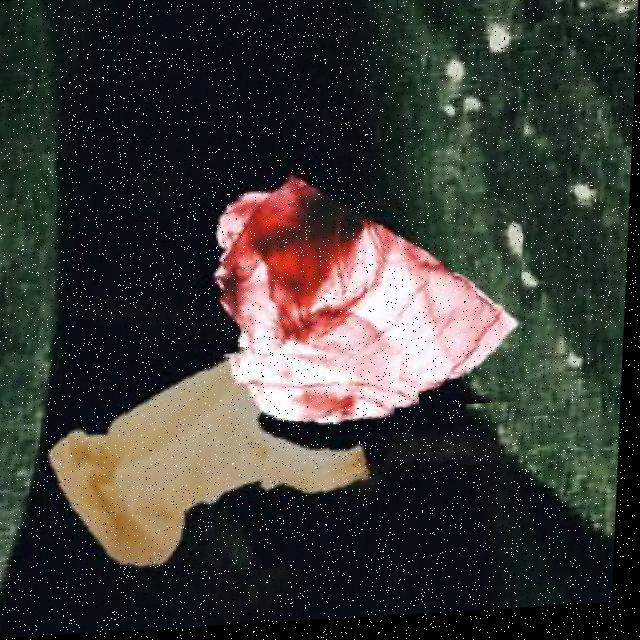litter: (186, 146, 529, 423), (46, 335, 407, 582)
